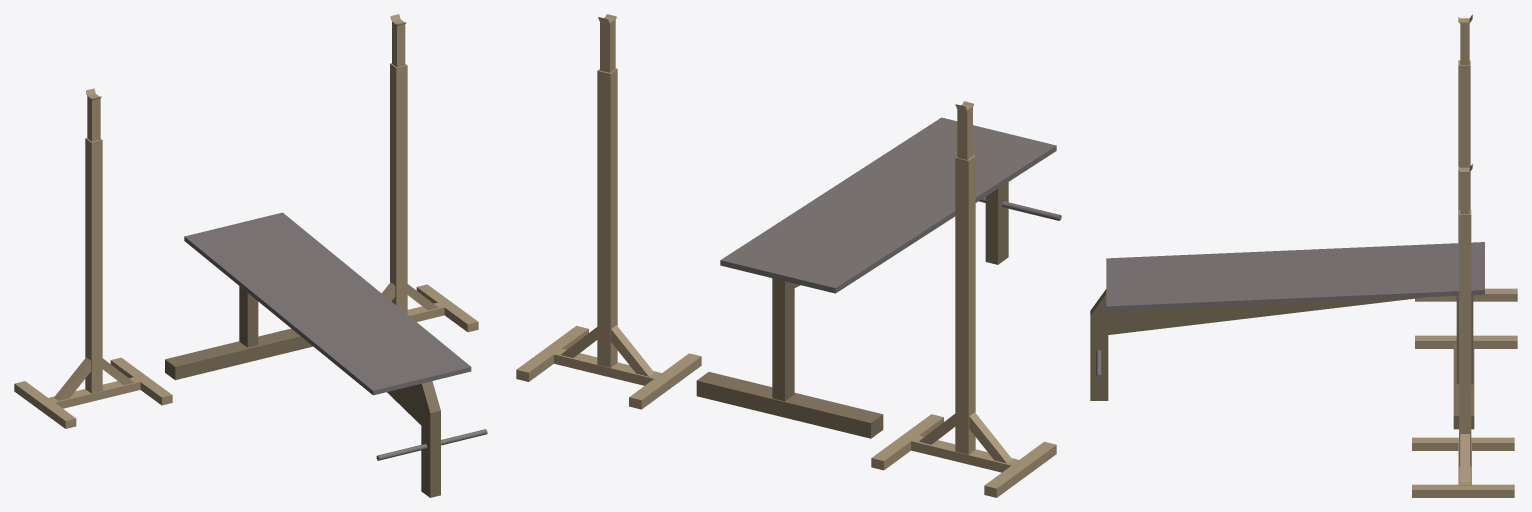
Rendered from SM_Rack_01.FBX.
The picture shows the model from 3 angles, left to right: view 1: azimuth 30°, elevation 25°; view 2: azimuth 150°, elevation 25°; view 3: azimuth 270°, elevation 25°; orthographic projection. The views are drawn at different scales.
Parts seen in each view (by area): view 1: SM_Rack_01; view 2: SM_Rack_01; view 3: SM_Rack_01.
Boxes of the visible parts, x1=… form: SM_Rack_01: x1=14, y1=14, x2=487, y2=497; SM_Rack_01: x1=516, y1=14, x2=1061, y2=497; SM_Rack_01: x1=1090, y1=14, x2=1517, y2=497.
Bounding box in the file's own units: 213 × 191 × 151.
